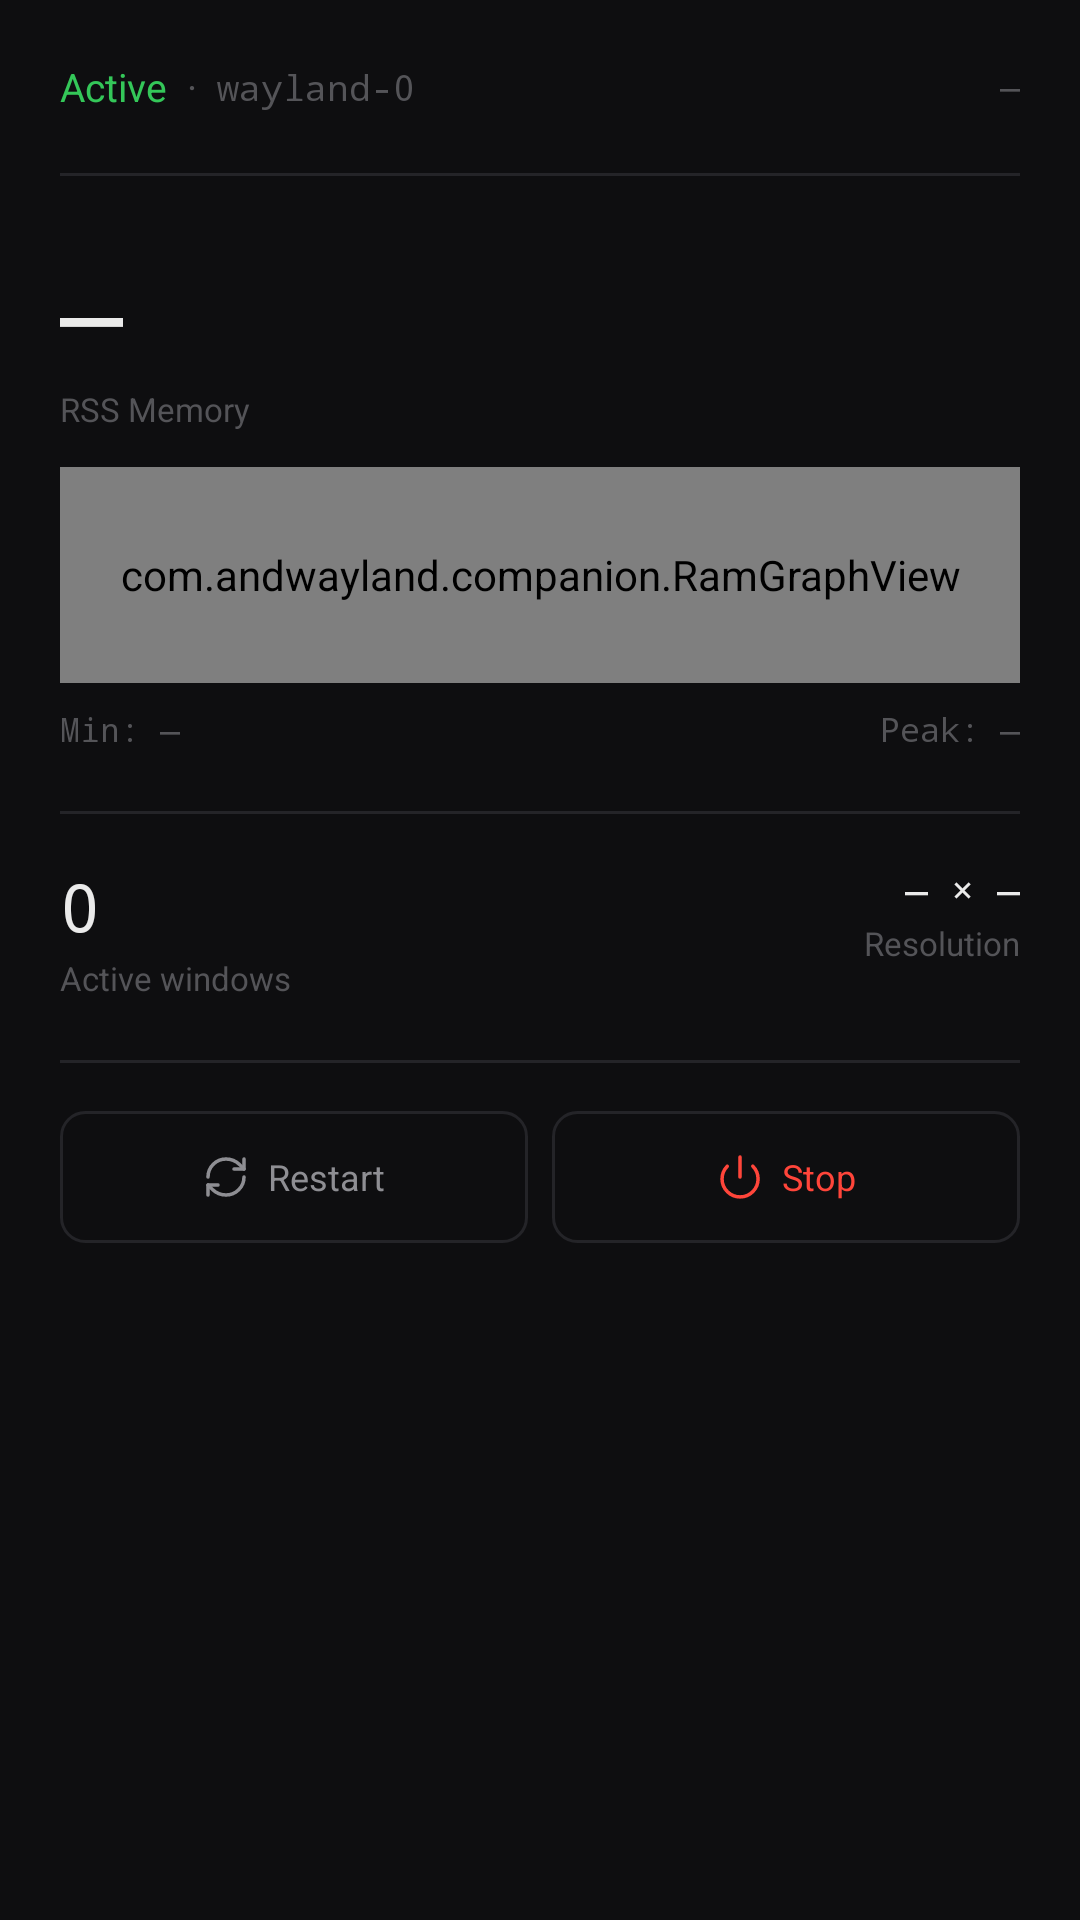

Icons on this 1080×1920 Android screen, each with the point to tap as point (x, y):
power: point (740, 1177)
refresh: point (226, 1177)
